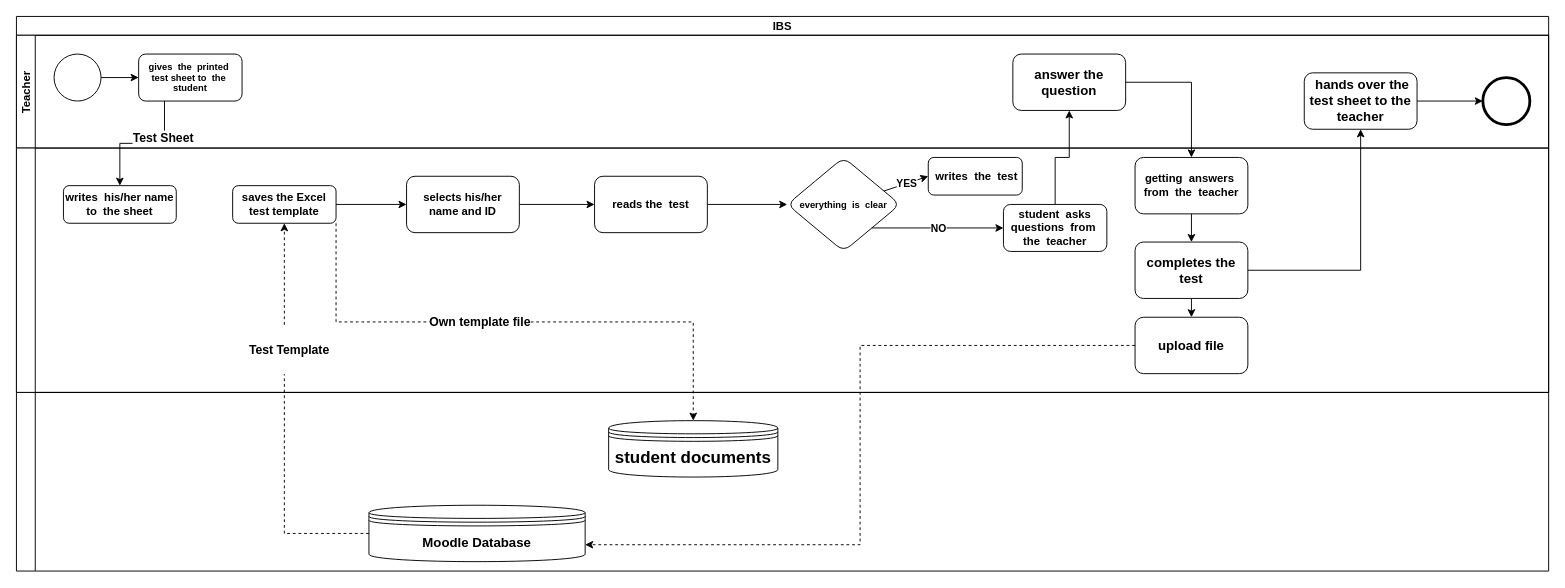
This 1565x588 diagram has some shape labels left out. The shapes that lost their labels are listed below. From the top down, each one's box as (x1, y1, x2, y2) in pixels, then its label:
(16, 147, 1549, 392): Student
(16, 392, 1549, 571): IBS IT system
